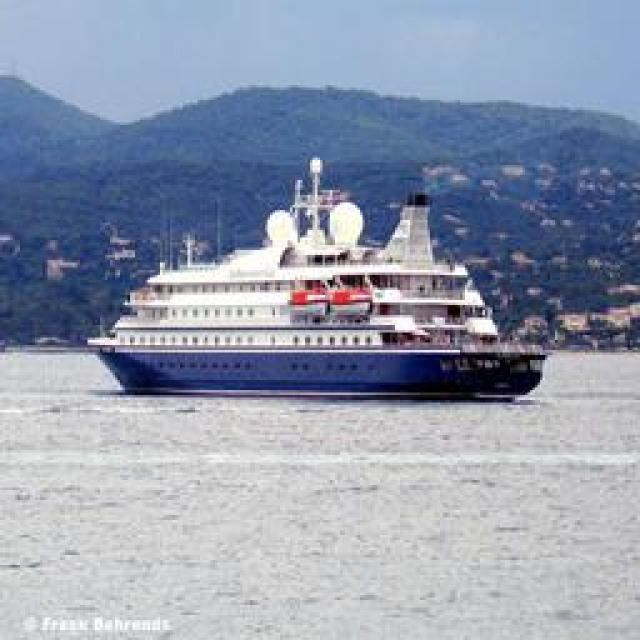CIV_Ship: (87, 160, 555, 405)
